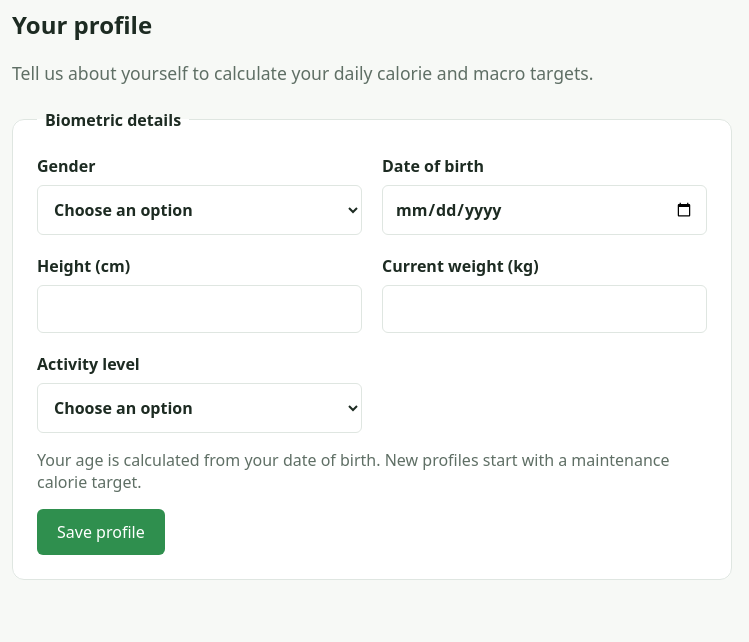
Test: saves validated intake with numeric units and maintenance targets
Select "Male" in the dropdown labelled "Gender" at (200, 210), box [37,185,362,235]
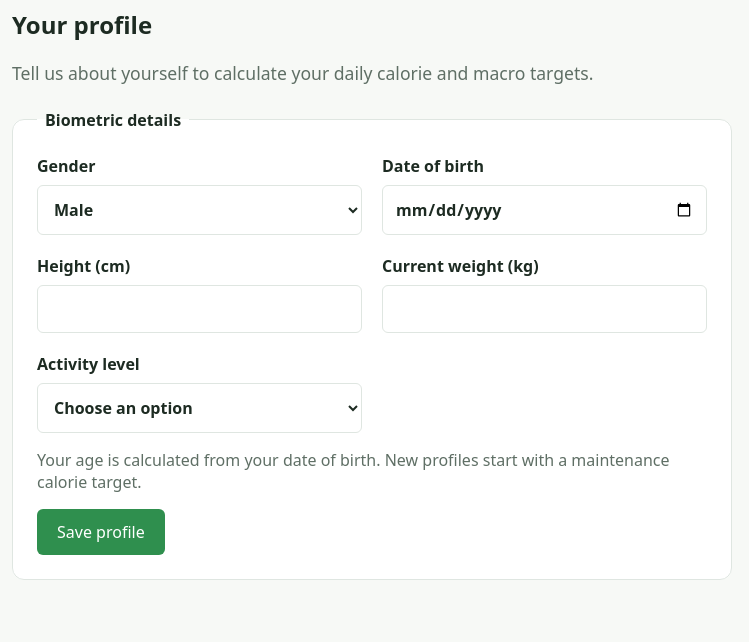
Type "2000-01-01" into the date field labelled "Date of birth" at (544, 210), box [382,185,707,235]
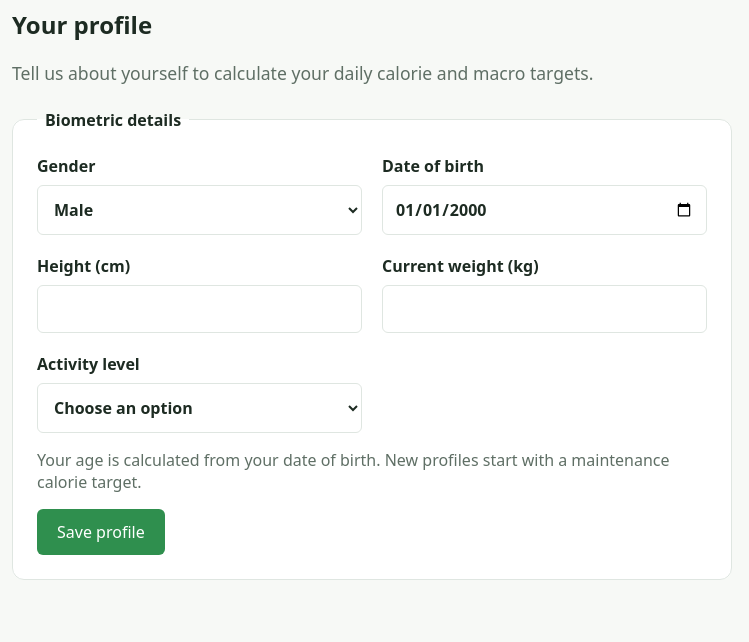
Type "180" into the number field labelled "Height (cm)" at (200, 309), box [37,285,362,333]
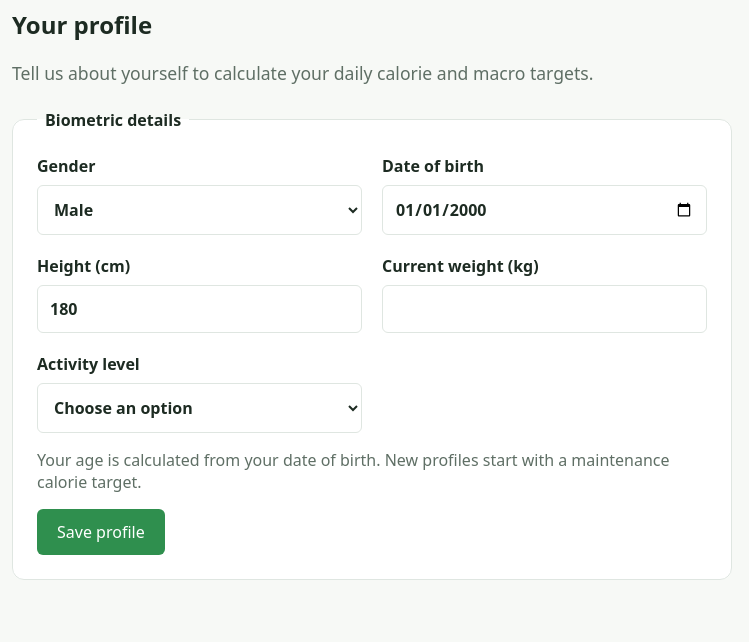
Type "72.5" into the number field labelled "Current weight (kg)" at (544, 309), box [382,285,707,333]
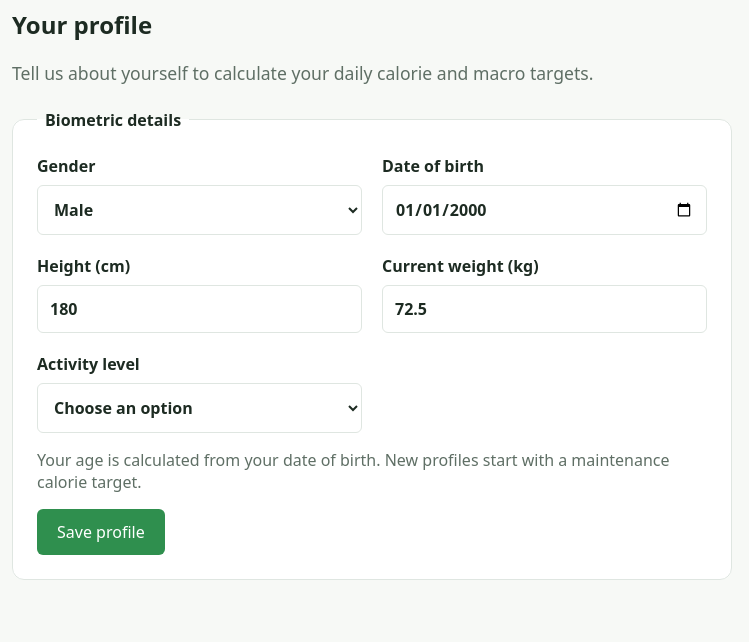
Select "Moderately active" in the dropdown labelled "Activity level" at (200, 408), box [37,383,362,433]
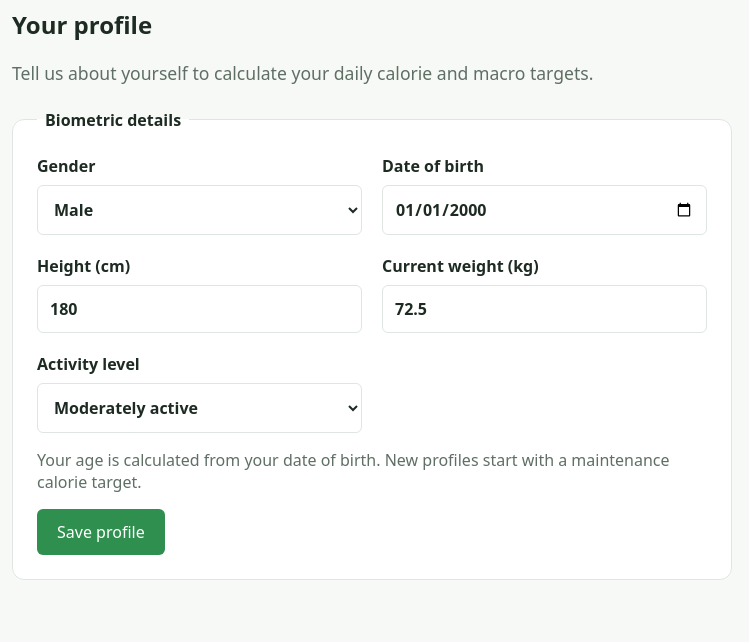
Click the button "Save profile" at (101, 532), box [37,509,165,555]
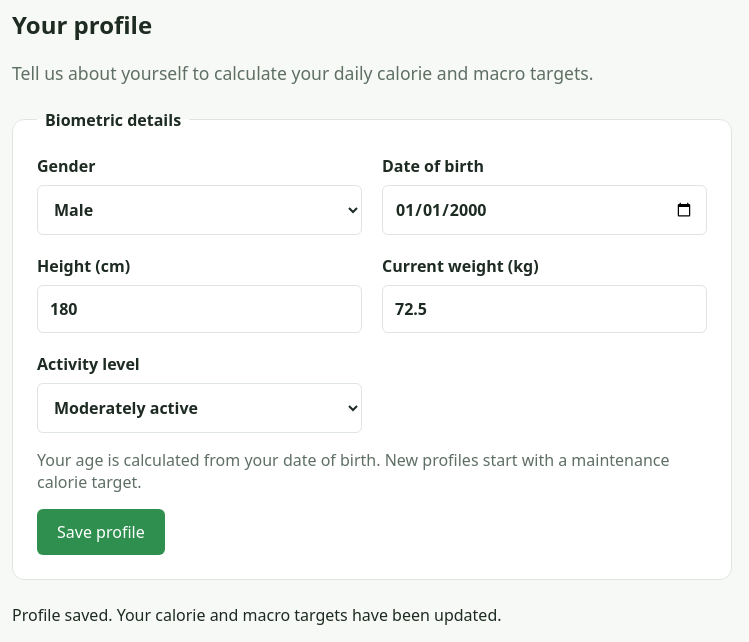
Now the text "Profile saved. Your calorie and macro targets have been updated." is shown, box [12,604,502,626]
